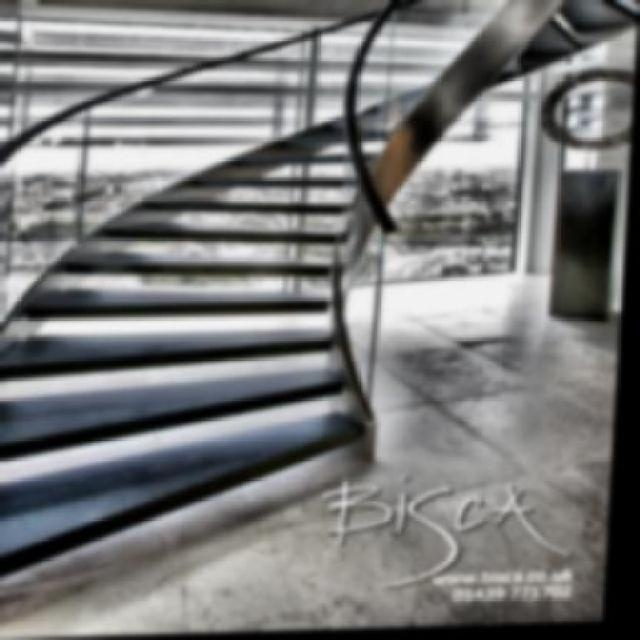stair: (0, 65, 411, 492)
